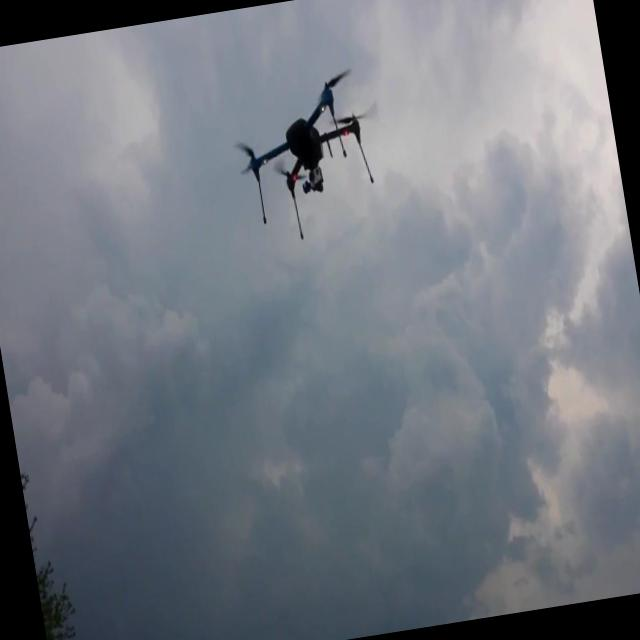drone: (234, 65, 382, 248)
